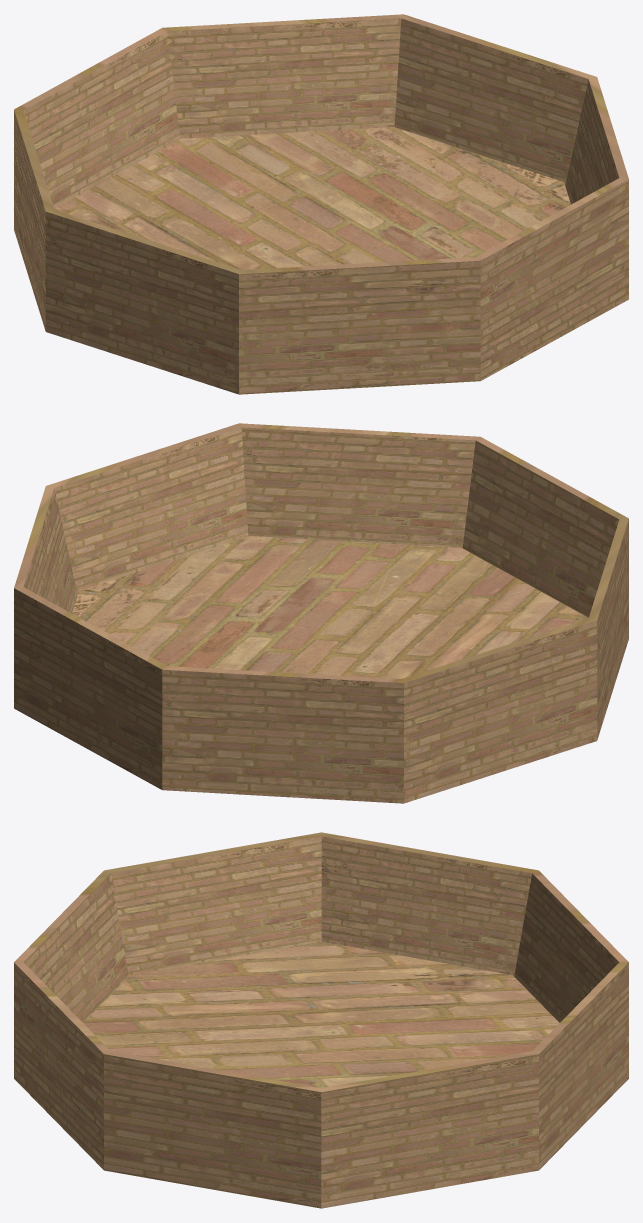
The model's file is Colosseum.fbx.
The picture shows the model from 3 angles, top to bottom: view 1: azimuth 30°, elevation 25°; view 2: azimuth 150°, elevation 25°; view 3: azimuth 270°, elevation 25°; orthographic projection. The views are drawn at different scales.
Visible parts, largest first — view 1: Stage; view 2: Stage; view 3: Stage.
Boxes of the visible parts, x1,y1,x2,y2 form: Stage: (14,14,628,394); Stage: (14,423,628,803); Stage: (14,832,628,1208).
Size of the model in its own units: 222 by 46.31 by 222.
1 material, 1 textured.
